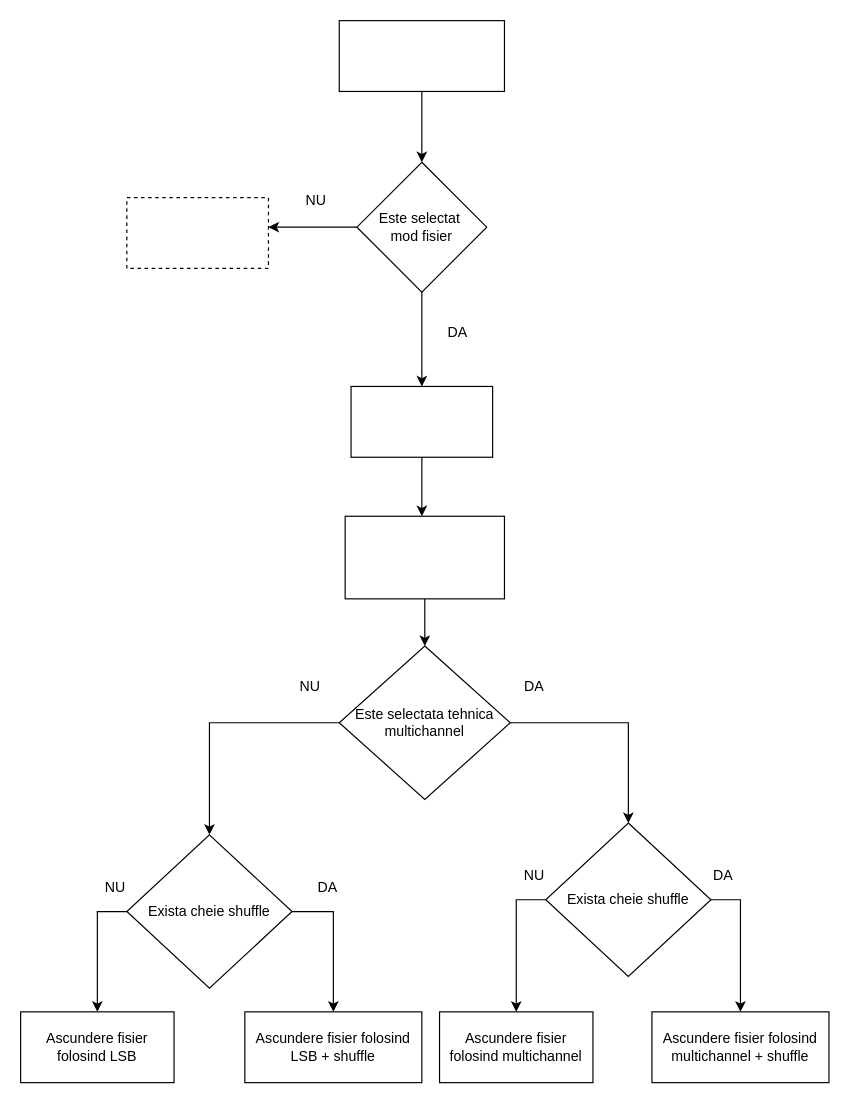
Some shapes in this 850 by 1103 pixel diagram are drawn without their labels. The shapes that lost their labels are listed below. From the top down, each one's centre as x and y in pixels, then its label:
(421,55): Ascunde mesaj text/fisier in imagine
(197,232): Ascundere mesaj
(421,421): Codifica "STGF"
(424,557): Codifica metoda folosita intr-un byte
